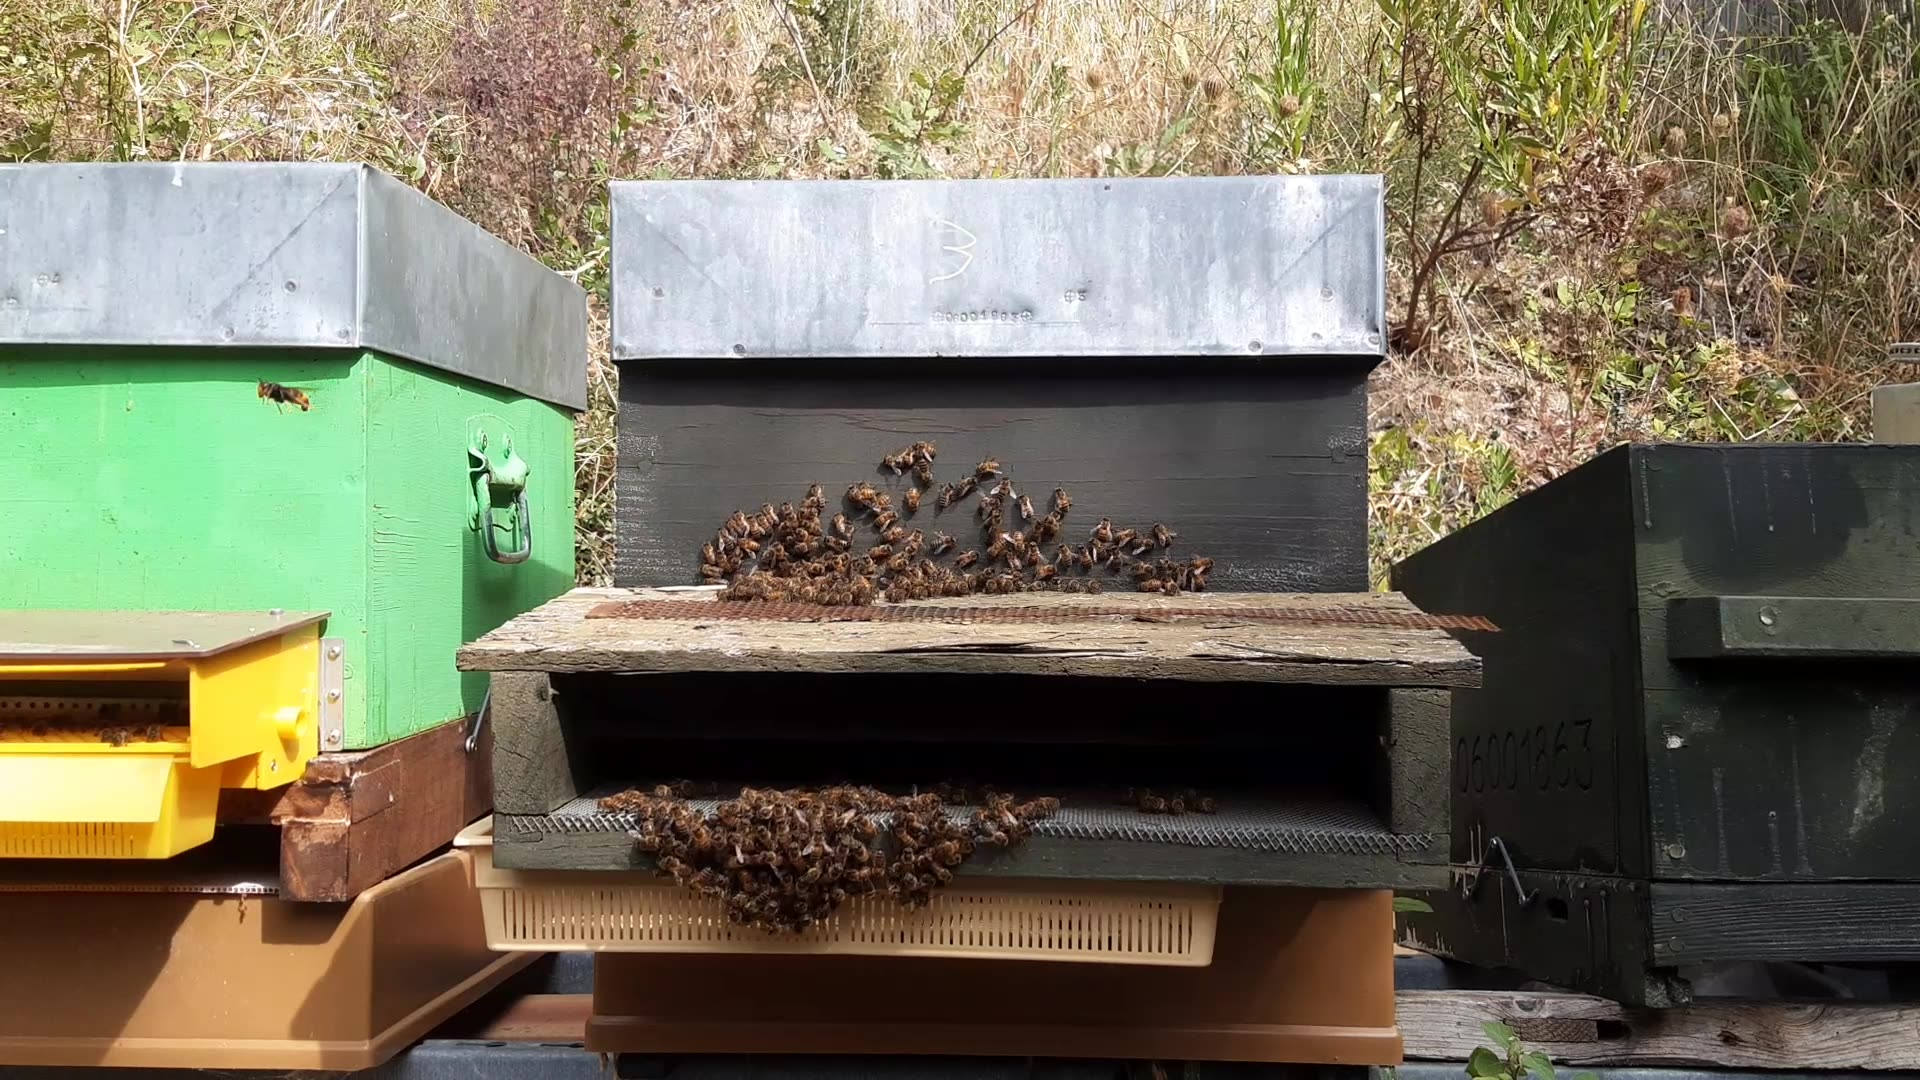bee: (872, 872, 961, 939), (608, 789, 702, 851), (746, 877, 818, 953), (963, 789, 1040, 841), (1106, 526, 1183, 579), (959, 534, 1030, 589), (851, 525, 919, 579), (727, 525, 803, 572), (843, 558, 920, 603), (762, 793, 827, 845), (1377, 319, 1433, 377), (1010, 513, 1073, 563), (891, 463, 948, 510), (942, 465, 996, 509), (770, 496, 835, 531), (1019, 497, 1071, 539), (894, 423, 945, 464)
hornet: (249, 364, 309, 415)
